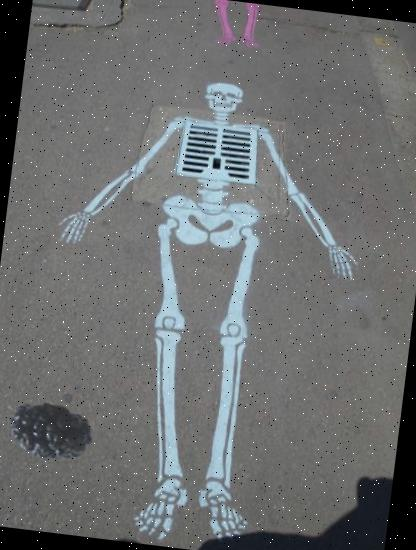Mulberry: (0, 387, 97, 491)
